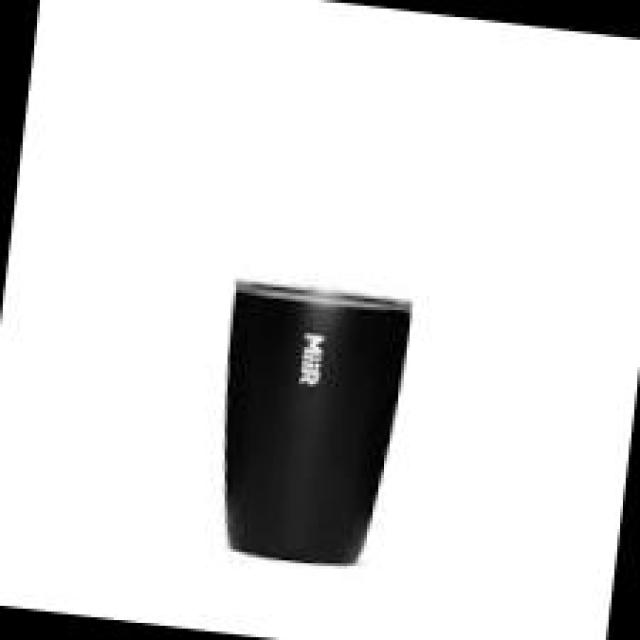bottle: (190, 263, 422, 573)
